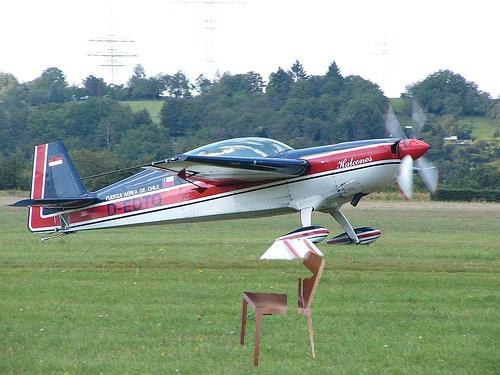tampered: (241, 252, 325, 366)
